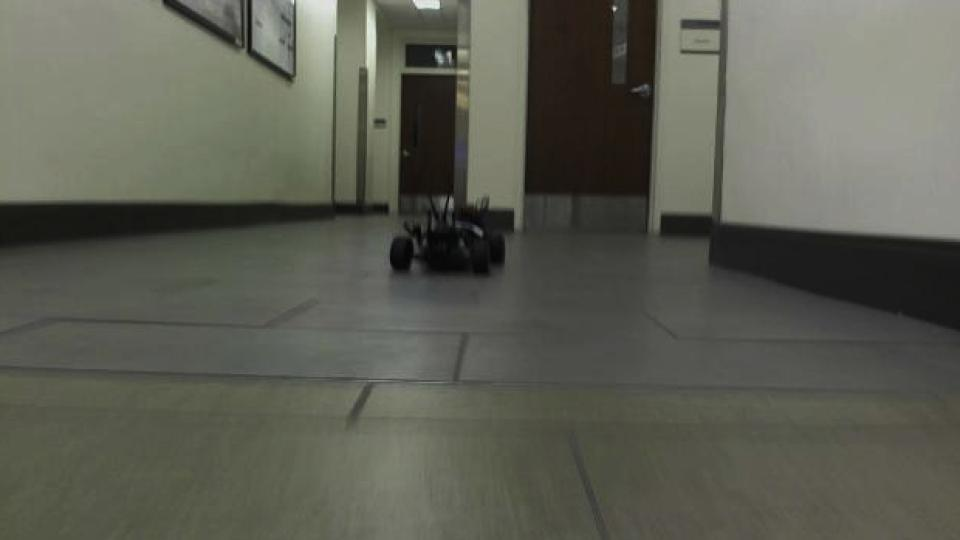car: (387, 189, 511, 278)
